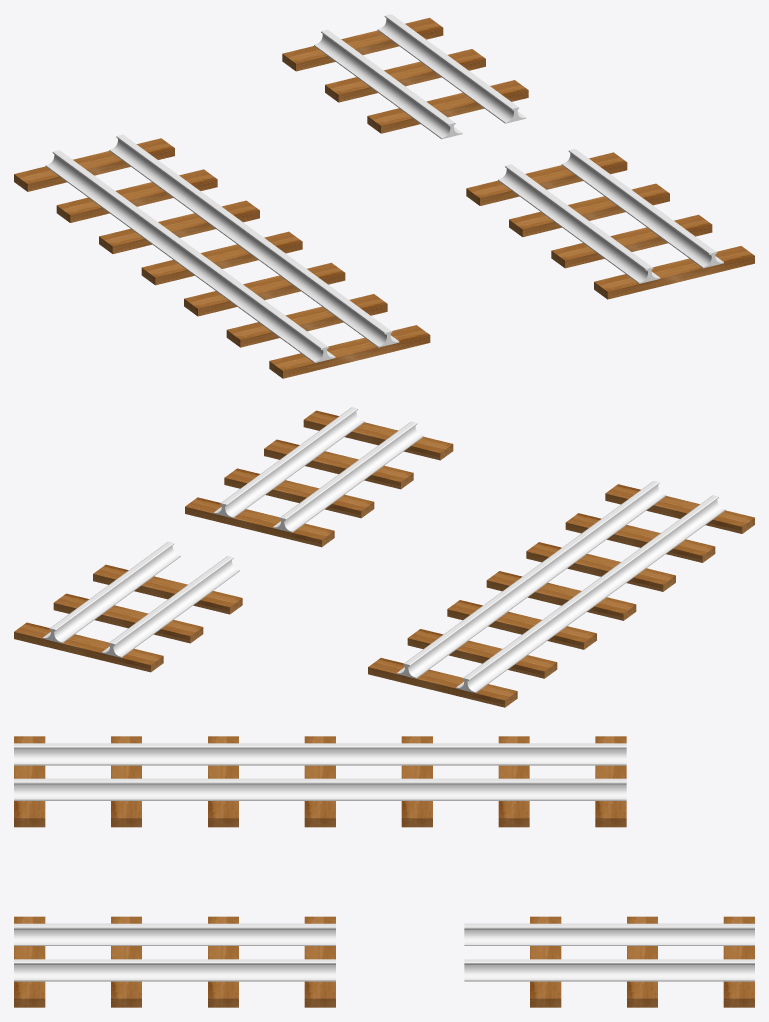
Rendered from РЕЛЬСЫ.glb.
The picture shows the model from 3 angles, top to bottom: view 1: azimuth 30°, elevation 25°; view 2: azimuth 150°, elevation 25°; view 3: azimuth 270°, elevation 25°; orthographic projection. The views are drawn at different scales.
Parts seen in each view (by area): view 1: РЕЛЬСА 2.002, РЕЛЬСА 2, РЕЛЬСА 2.003, РЕЛЬСА 2.001, Cube.003, Cube.010, Cube.007, Cube, Cube.002, Cube.009, Cube.001, Cube.011 (+6 smaller); view 2: РЕЛЬСА 2.002, РЕЛЬСА 2, РЕЛЬСА 2.003, РЕЛЬСА 2.001, Cube.009, Cube.013, Cube.006, Cube, Cube.002, Cube.008, Cube.010, Cube.005 (+6 smaller); view 3: РЕЛЬСА 2, РЕЛЬСА 2.002, РЕЛЬСА 2.001, РЕЛЬСА 2.003, Cube.006, Cube.002, Cube.003, Cube.004, Cube.005, Cube.009, Cube.010, Cube.011 (+6 smaller).
Part boxes in pixels (x1,y1,x2,y2): РЕЛЬСА 2.002: [498, 149, 723, 283]; РЕЛЬСА 2: [173, 228, 399, 362]; РЕЛЬСА 2.003: [314, 14, 526, 139]; РЕЛЬСА 2.001: [45, 134, 250, 259]; Cube.003: [269, 325, 430, 378]; Cube.010: [594, 246, 754, 299]; Cube.007: [551, 214, 712, 268]; Cube: [226, 294, 387, 347]; Cube.002: [141, 231, 302, 285]; Cube.009: [466, 152, 627, 205]; Cube.001: [184, 262, 345, 316]; Cube.011: [367, 80, 528, 133]; РЕЛЬСА 2.002: [213, 407, 423, 532]; РЕЛЬСА 2: [522, 481, 725, 605]; РЕЛЬСА 2.003: [42, 541, 239, 657]; РЕЛЬСА 2.001: [397, 577, 594, 693]; Cube.009: [185, 497, 334, 547]; Cube.013: [14, 622, 163, 672]; Cube.006: [368, 658, 517, 707]; Cube: [565, 513, 715, 562]; Cube.002: [486, 571, 636, 620]; Cube.008: [224, 468, 374, 518]; Cube.010: [303, 410, 453, 460]; Cube.005: [407, 629, 557, 678]; РЕЛЬСА 2: [14, 743, 335, 800]; РЕЛЬСА 2.002: [14, 923, 335, 981]; РЕЛЬСА 2.001: [336, 743, 626, 800]; РЕЛЬСА 2.003: [464, 923, 754, 981]; Cube.006: [595, 736, 626, 827]; Cube.002: [304, 736, 335, 827]; Cube.003: [14, 736, 45, 827]; Cube.004: [401, 736, 432, 827]; Cube.005: [498, 736, 529, 827]; Cube.009: [304, 916, 335, 1007]; Cube.010: [14, 916, 45, 1007]; Cube.011: [530, 916, 561, 1007].
Bounding box in the file's own units: 6.41 × 0.2721 × 7.65.
2 materials, 1 textured.
